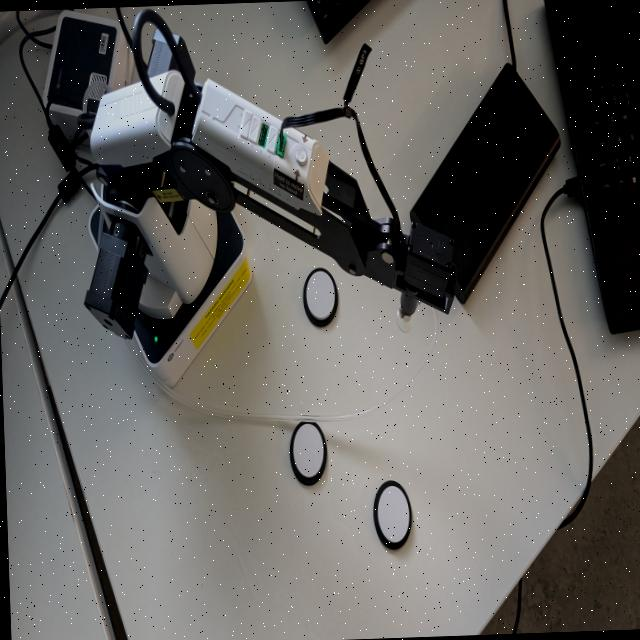Robot-end-effector-HF8z: (388, 216, 462, 338)
